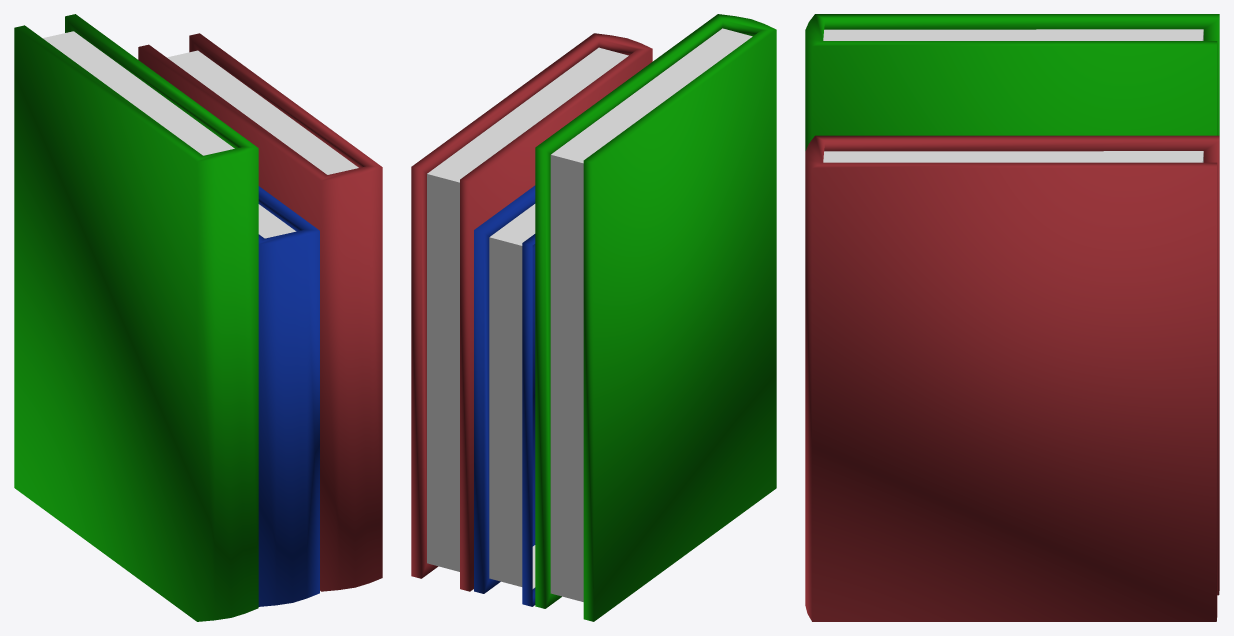
The model's file is Livros 01.fbx.
3 views of the same model, side by side, from view 1: azimuth 30°, elevation 25°; view 2: azimuth 150°, elevation 25°; view 3: azimuth 270°, elevation 25° (orthographic). The views are drawn at different scales.
Parts seen in each view (by area): view 1: Livros; view 2: Livros; view 3: Livros.
Boxes of the visible parts, left/top/right/bottom form: Livros: left=14, top=14, right=382, bottom=621; Livros: left=411, top=14, right=776, bottom=621; Livros: left=805, top=14, right=1219, bottom=621.
Bounding box in the file's own units: 15.49 × 36.94 × 27.27.
